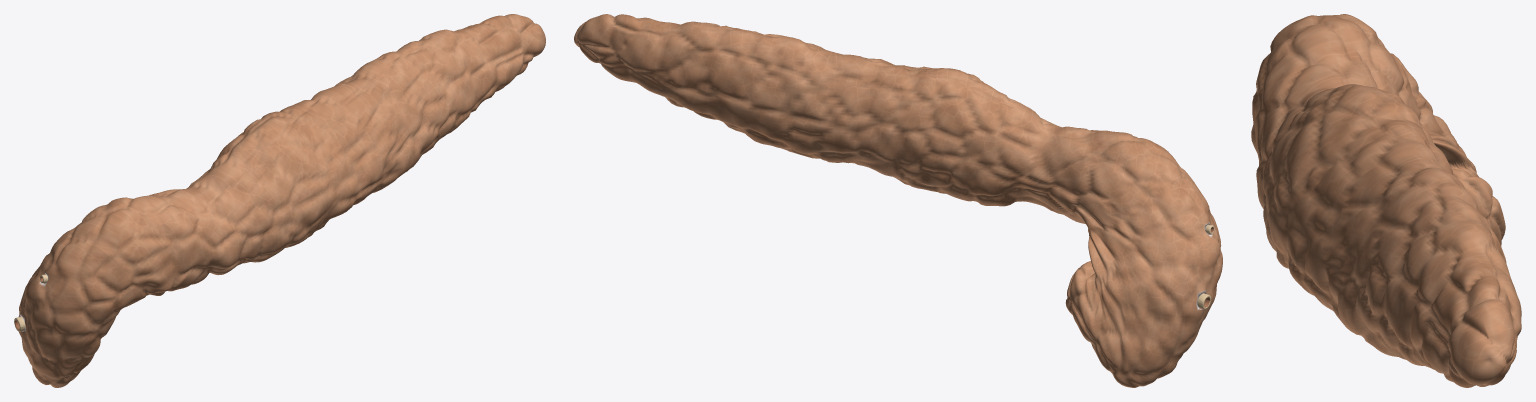
Rendered from previous.glb.
The picture shows the model from 3 angles, left to right: view 1: azimuth 30°, elevation 25°; view 2: azimuth 150°, elevation 25°; view 3: azimuth 270°, elevation 25°; orthographic projection. The views are drawn at different scales.
Visible parts, largest first — view 1: PA_Parenchyma; view 2: PA_Parenchyma; view 3: PA_Parenchyma.
Part boxes in pixels (<box>): PA_Parenchyma: <box>18,14,545,387</box>; PA_Parenchyma: <box>574,14,1222,387</box>; PA_Parenchyma: <box>1251,14,1521,387</box>.
Size of the model in its own units: 0.1622 by 0.0684 by 0.0411.
6 materials, 6 textured.
